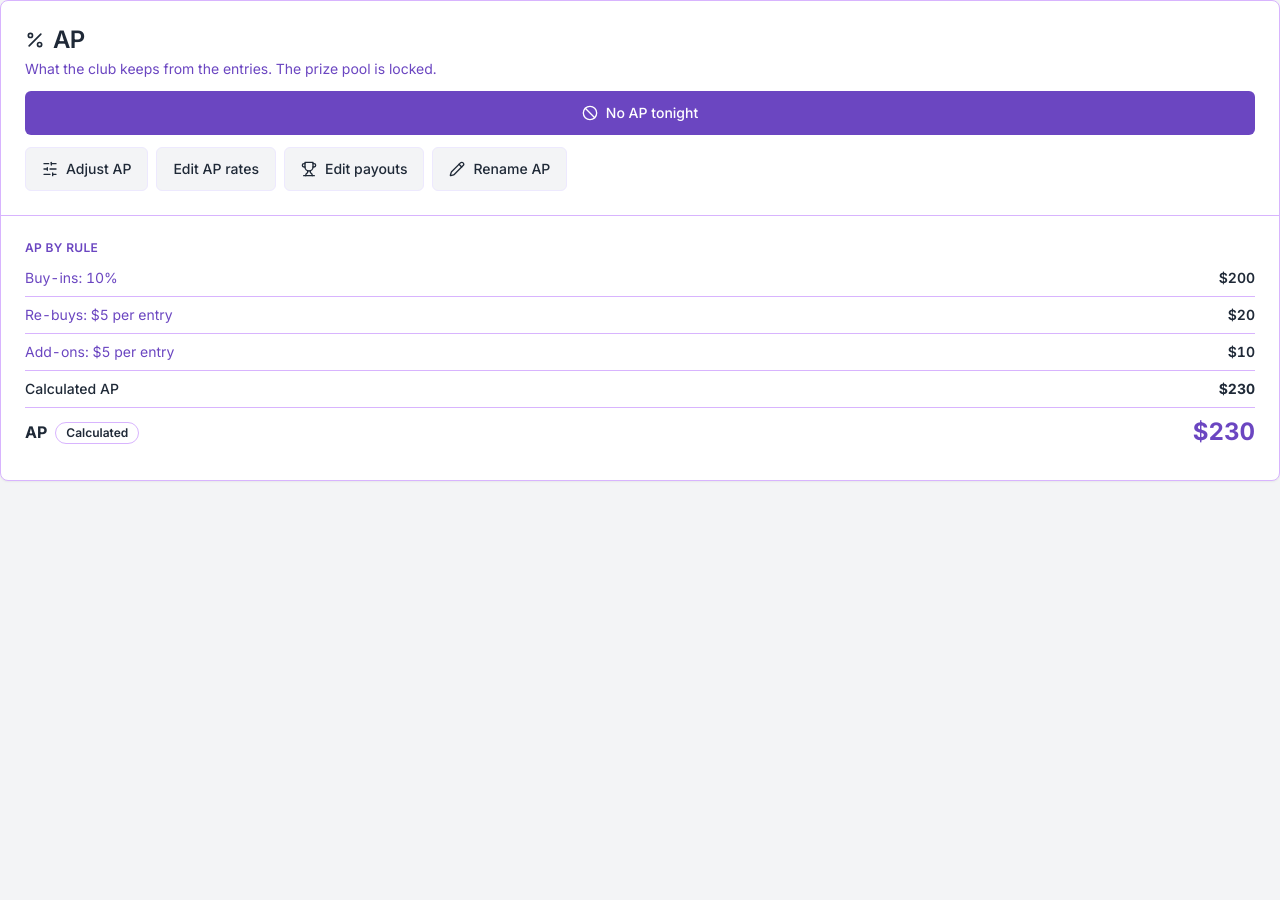
Test: ApPanel › No AP tonight (round 5, item 5) › asks first while the pool is locked, since its published payouts change
Click the button "No AP tonight" at [640, 113], box [25,91,1255,135]
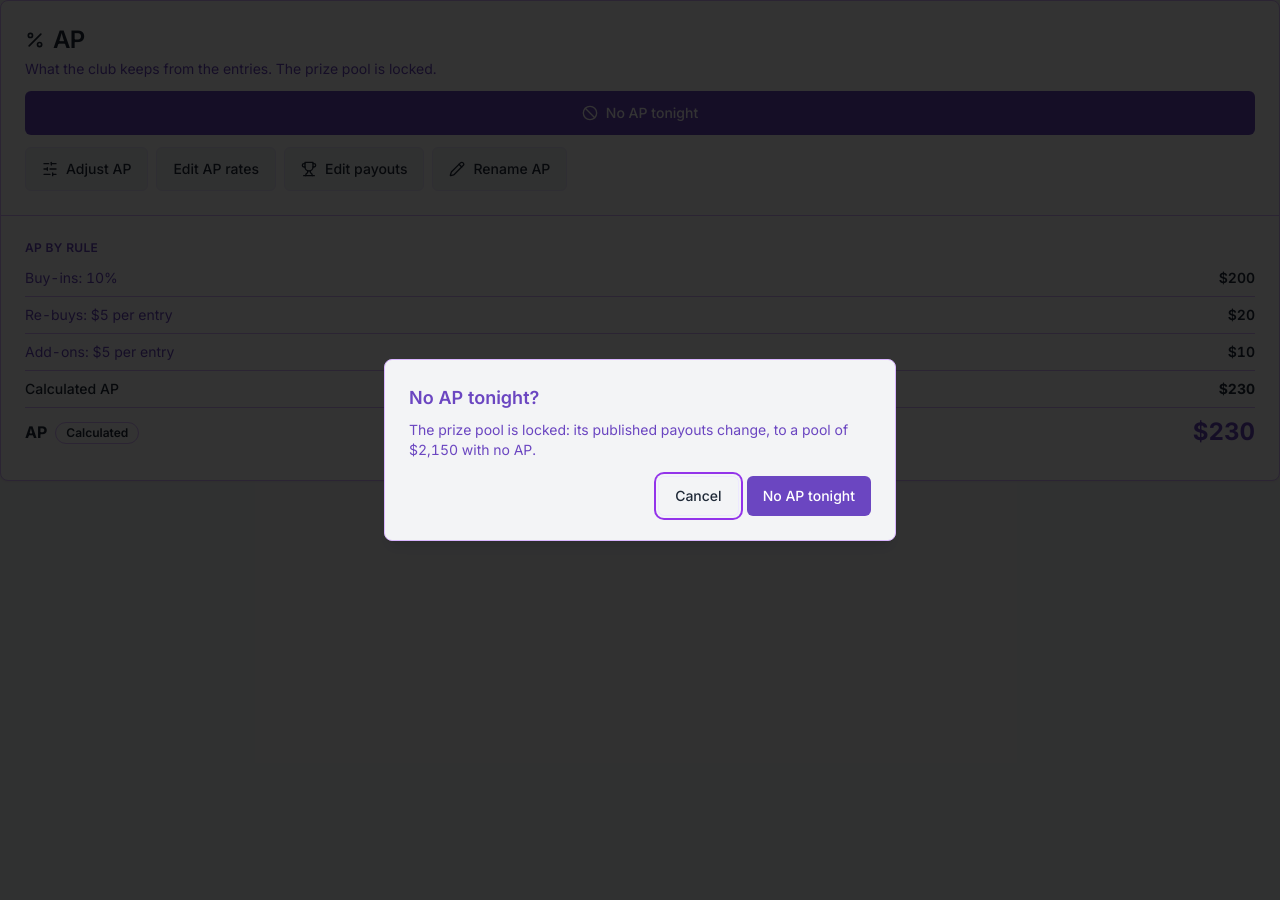
Result: the dialog "No AP tonight?" shows "The prize pool is locked: its published payouts change, to a pool of $2,150 with no AP." at [409,421,848,458]
Click the button with test id "confirm-no-ap" at [809, 496], box [747,476,871,516]
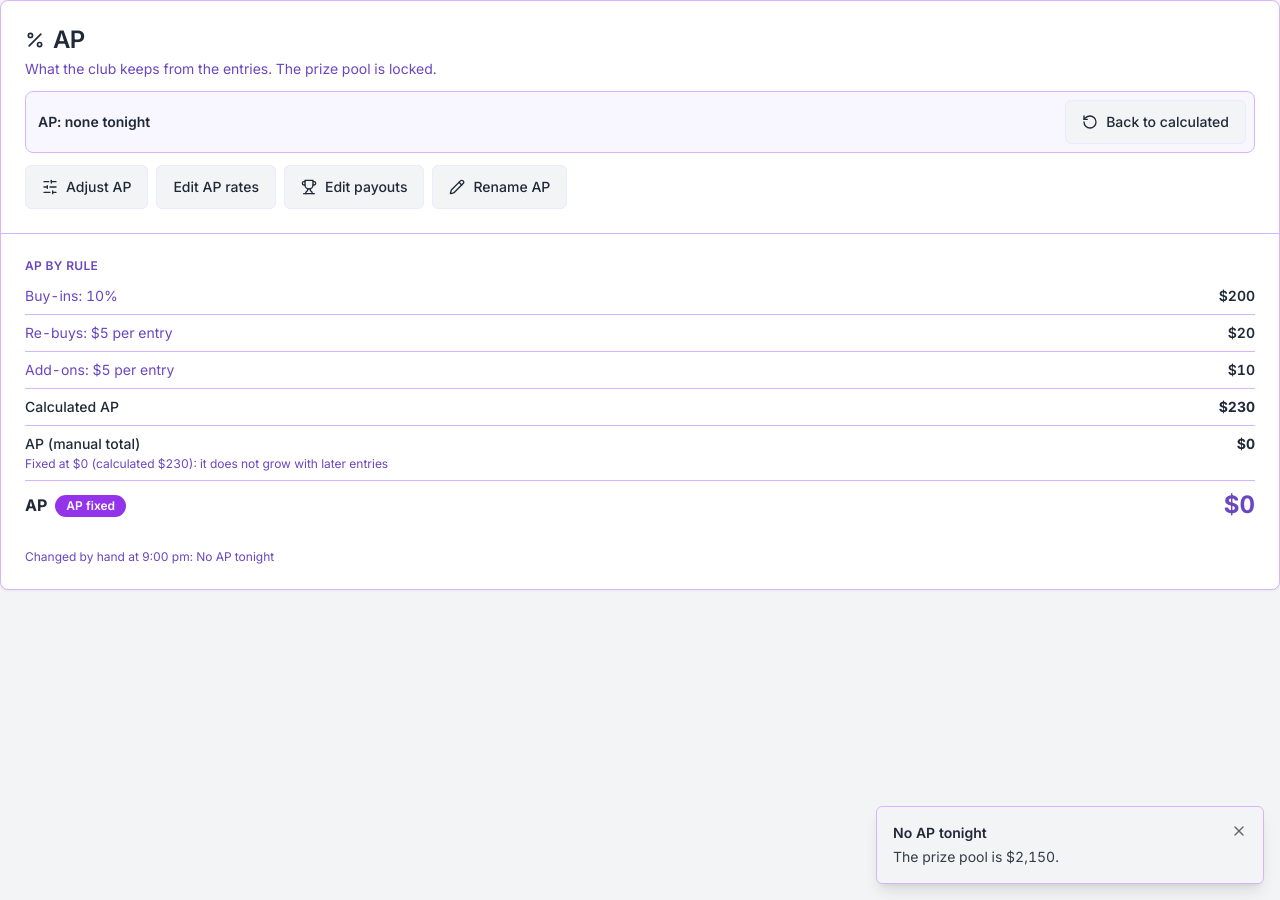
Result: the dialog is gone
